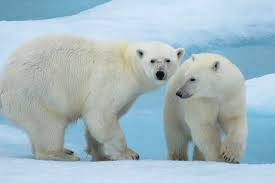PolarBear: (0, 32, 184, 163)
